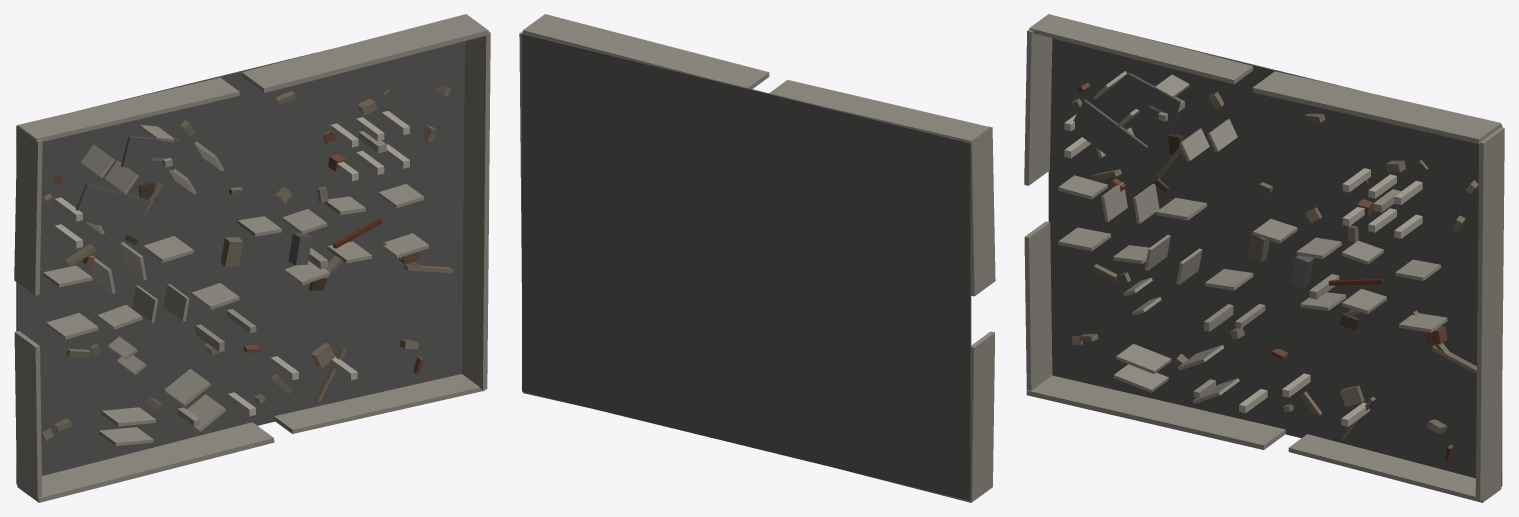
File: Ruins-Urban-01_base.obj
The picture shows the model from 3 angles, left to right: view 1: azimuth 30°, elevation 25°; view 2: azimuth 150°, elevation 25°; view 3: azimuth 330°, elevation 25°; orthographic projection.
Parts seen in each view (by area): view 1: floor_slab, east_boundary, north_boundary_east, south_boundary_west, north_boundary_west, south_boundary_east, west_boundary_north, west_boundary_south, utility_ceiling_01, utility_ceiling_02, ground_corridor_s4_s5_left, spine_broken_panel_08 (+21 smaller); view 2: floor_slab, north_boundary_east, north_boundary_west, west_boundary_north, west_boundary_south; view 3: floor_slab, east_boundary, south_boundary_west, north_boundary_east, north_boundary_west, south_boundary_east, west_boundary_south, west_boundary_north, utility_ceiling_01, utility_ceiling_02, ground_corridor_s3_s4_left, ground_corridor_s3_s4_right (+16 smaller).
Boxes of the visible parts, x1=… form: floor_slab: x1=16, y1=41, x2=464, y2=483; east_boundary: x1=462, y1=31, x2=490, y2=389; north_boundary_east: x1=242, y1=14, x2=488, y2=92; south_boundary_west: x1=17, y1=422, x2=274, y2=502; north_boundary_west: x1=17, y1=77, x2=239, y2=141; south_boundary_east: x1=274, y1=374, x2=484, y2=433; west_boundary_north: x1=14, y1=126, x2=42, y2=295; west_boundary_south: x1=14, y1=331, x2=42, y2=499; utility_ceiling_01: x1=75, y1=184, x2=149, y2=234; utility_ceiling_02: x1=121, y1=136, x2=181, y2=170; ground_corridor_s4_s5_left: x1=164, y1=368, x2=210, y2=405; spine_broken_panel_08: x1=46, y1=313, x2=98, y2=339; floor_slab: x1=522, y1=33, x2=971, y2=500; north_boundary_east: x1=523, y1=14, x2=769, y2=89; north_boundary_west: x1=769, y1=80, x2=990, y2=142; west_boundary_north: x1=971, y1=126, x2=995, y2=296; west_boundary_south: x1=971, y1=331, x2=994, y2=500; floor_slab: x1=1048, y1=29, x2=1502, y2=486; east_boundary: x1=1475, y1=127, x2=1504, y2=501; south_boundary_west: x1=1026, y1=375, x2=1285, y2=449; north_boundary_east: x1=1252, y1=71, x2=1501, y2=143; north_boundary_west: x1=1029, y1=14, x2=1253, y2=84; south_boundary_east: x1=1288, y1=434, x2=1501, y2=502; west_boundary_south: x1=1024, y1=221, x2=1052, y2=390; west_boundary_north: x1=1024, y1=29, x2=1052, y2=185; utility_ceiling_01: x1=1073, y1=99, x2=1148, y2=174; utility_ceiling_02: x1=1120, y1=72, x2=1181, y2=127; ground_corridor_s3_s4_left: x1=1116, y1=344, x2=1171, y2=373; ground_corridor_s3_s4_right: x1=1113, y1=364, x2=1168, y2=392.
Size of the model in its own units: 42.62 by 32.51 by 4.04.
